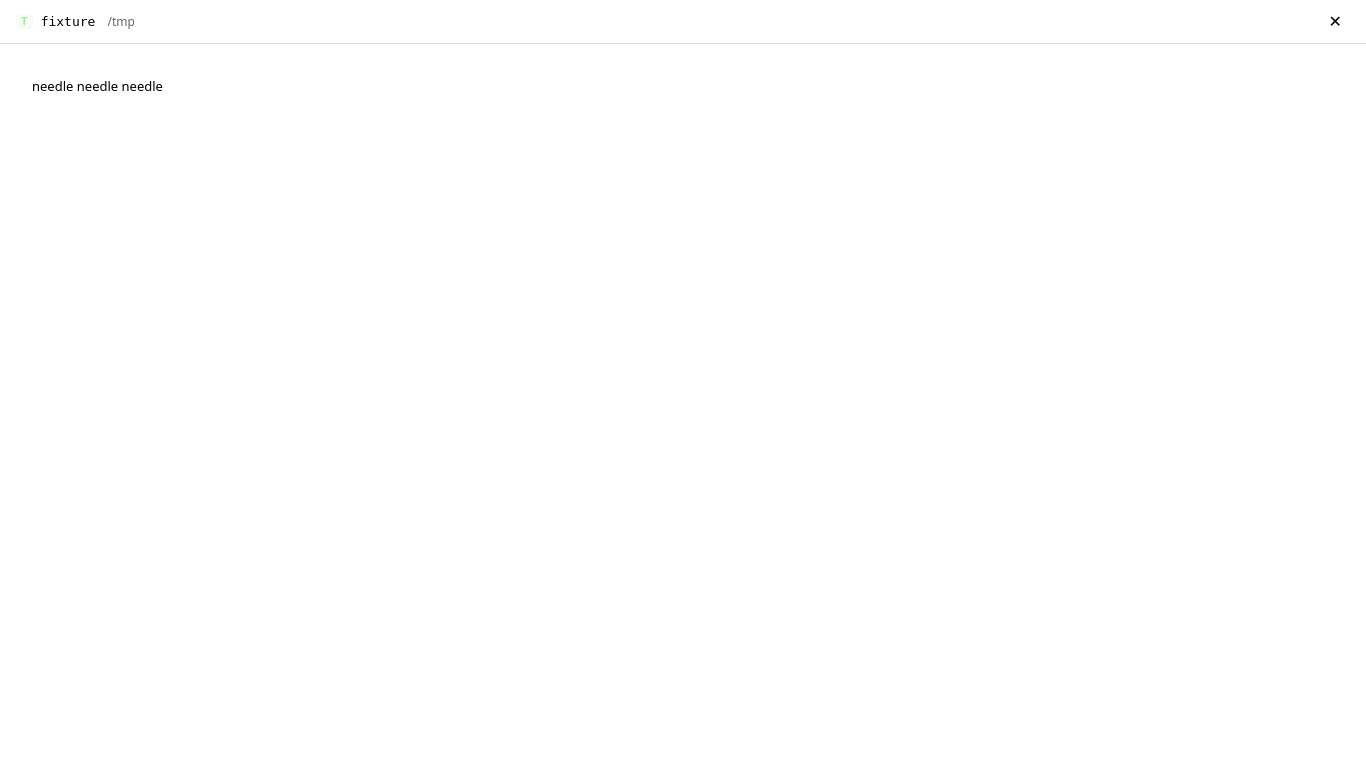
it: App keyboard handling › preserves native Enter activation on focused .search-close
Press f
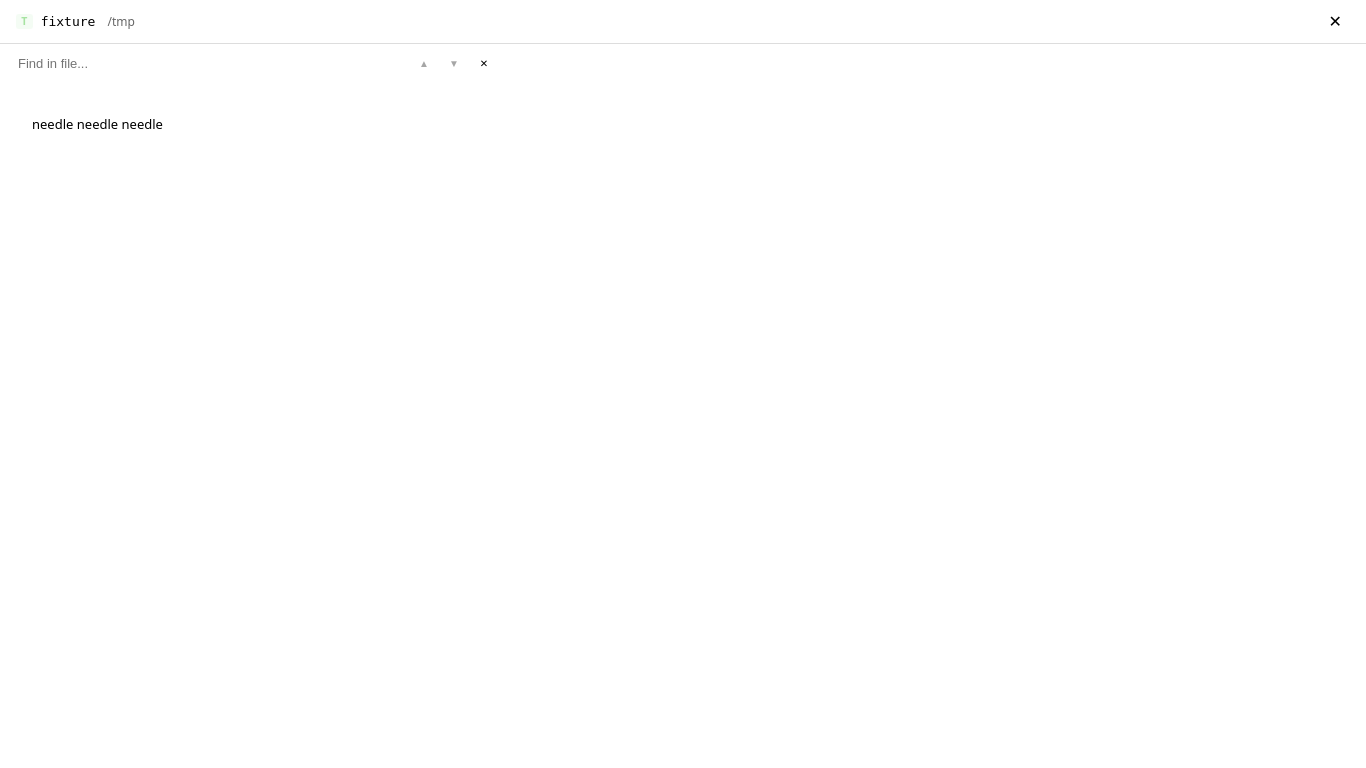
Type "needle" into the field with class "search-input" at (170, 63), box x1=10 y1=49 x2=330 y2=77
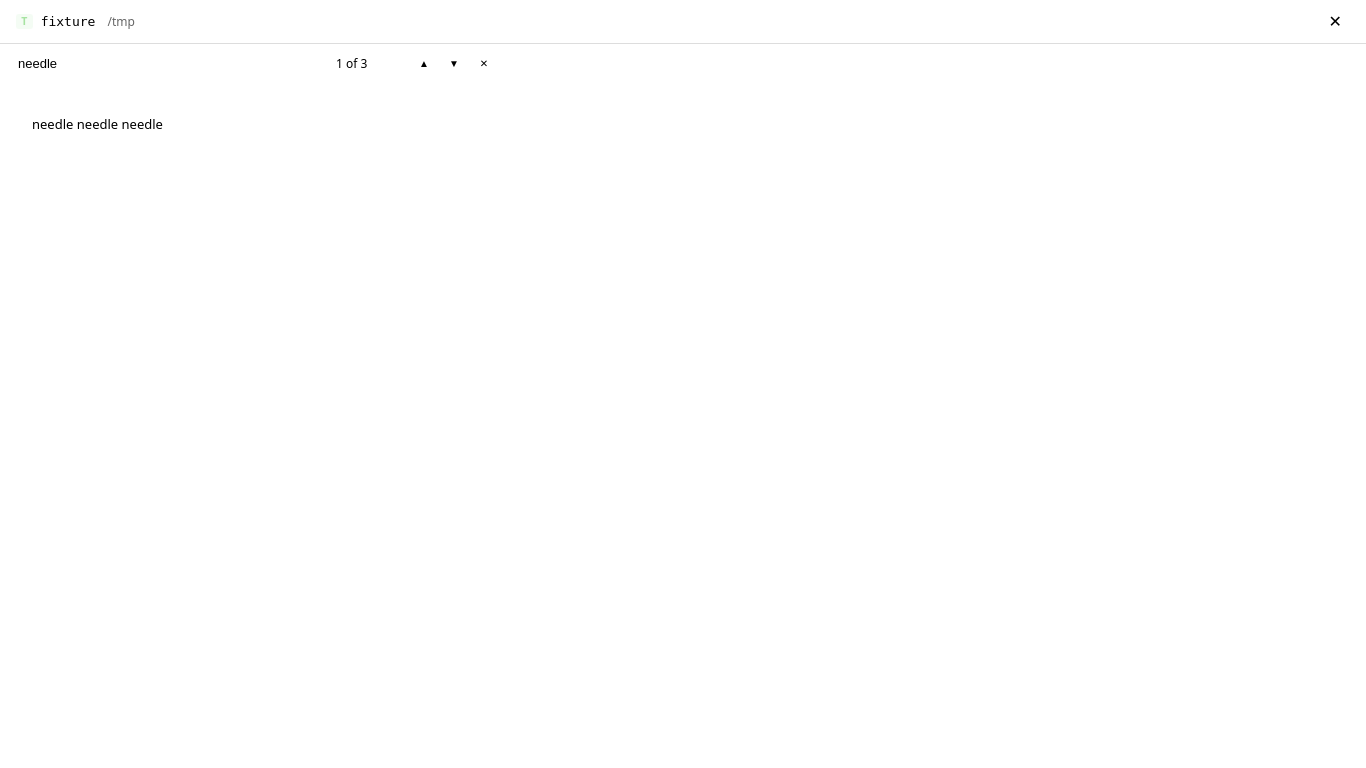
Press Enter in the button with class "search-close", box x1=472 y1=51 x2=496 y2=75
Check: the text "1 of 3" is shown, box x1=336 y1=54 x2=367 y2=72
Click the button with class "search-close" at (484, 63), box x1=472 y1=51 x2=496 y2=75
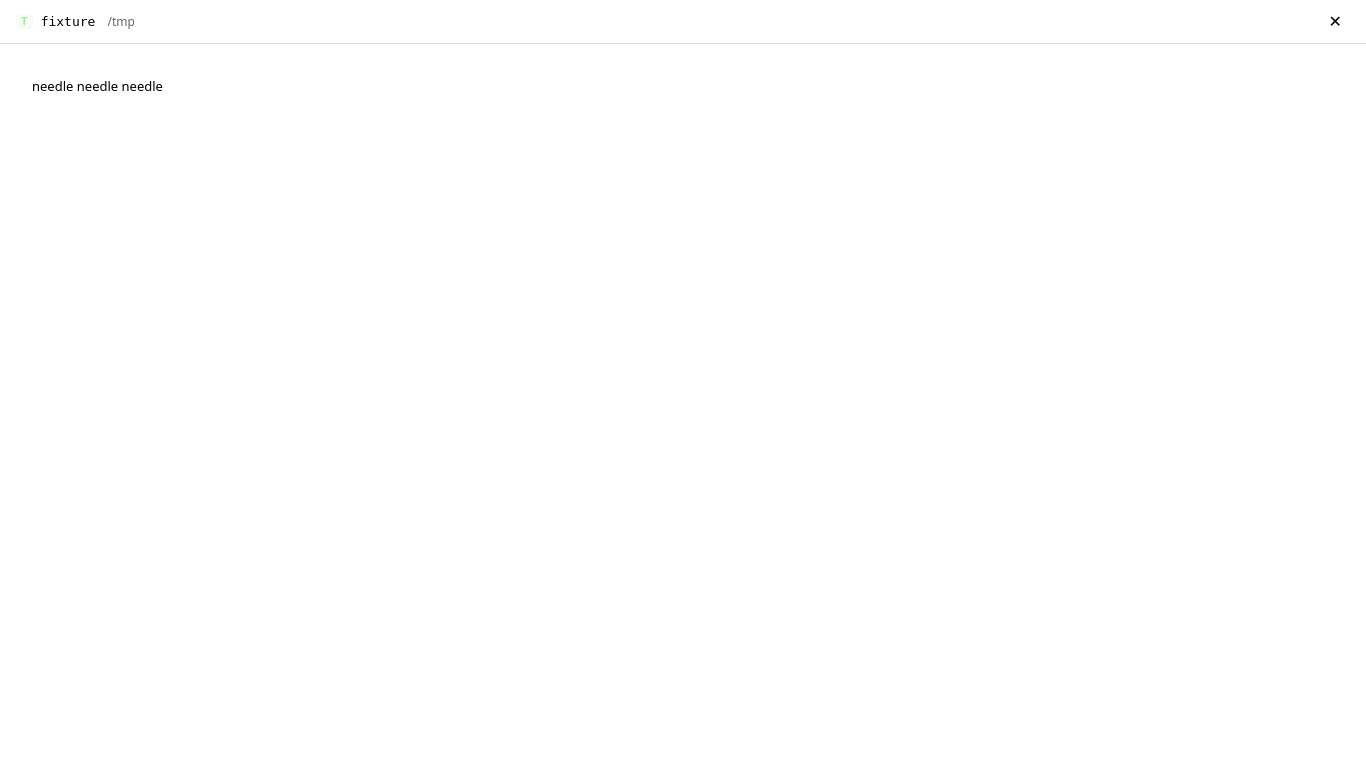
Check: the element with class "search-bar" is gone
